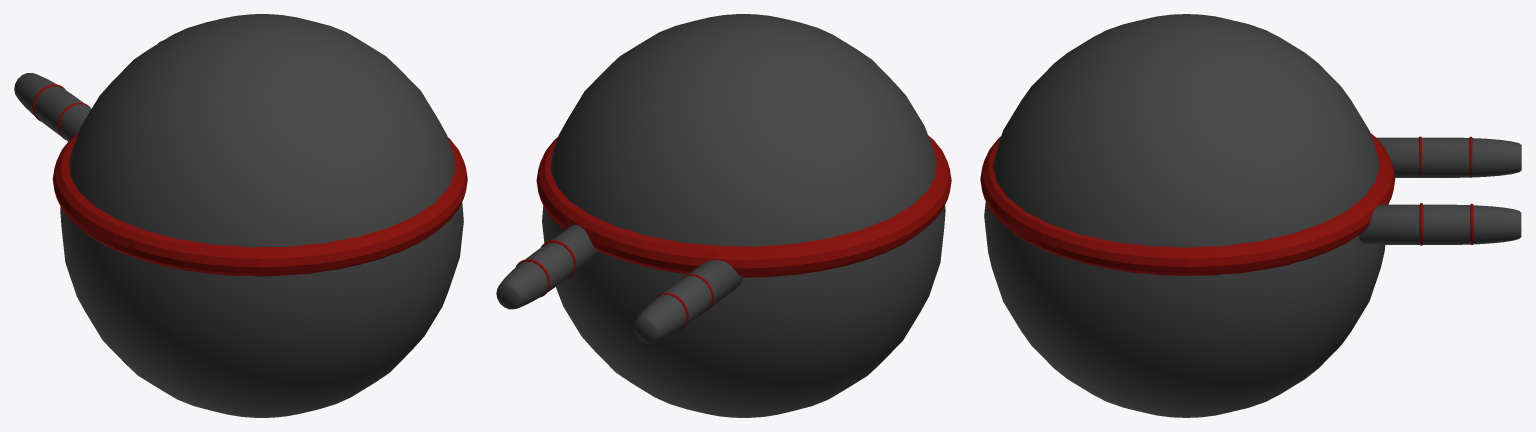
Rendered from Enemy.fbx.
3 renders of one model, left to right at view 1: azimuth 30°, elevation 25°; view 2: azimuth 150°, elevation 25°; view 3: azimuth 270°, elevation 25°, orthographic.
Visible parts, largest first — view 1: Drone_Body, RingBody, GunL; view 2: Drone_Body, RingBody, GunL, GunR; view 3: Drone_Body, RingBody, GunR, GunL.
Boxes of the visible parts, x1,y1,x2,y2 form: Drone_Body: [60, 14, 463, 417]; RingBody: [52, 132, 467, 276]; GunL: [14, 73, 91, 141]; Drone_Body: [542, 14, 945, 417]; RingBody: [536, 135, 951, 277]; GunL: [633, 260, 743, 343]; GunR: [496, 224, 597, 309]; Drone_Body: [984, 14, 1385, 417]; RingBody: [980, 133, 1395, 275]; GunR: [1359, 204, 1521, 244]; GunL: [1376, 137, 1521, 177].
Size of the model in its own units: 103 by 100 by 134.
